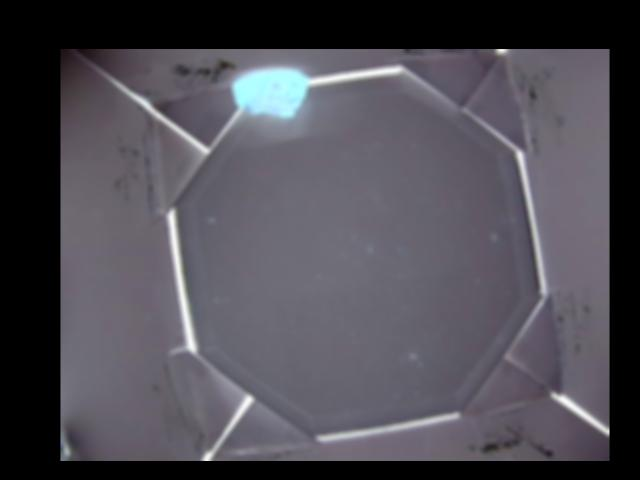Brisk: (232, 67, 311, 117)
